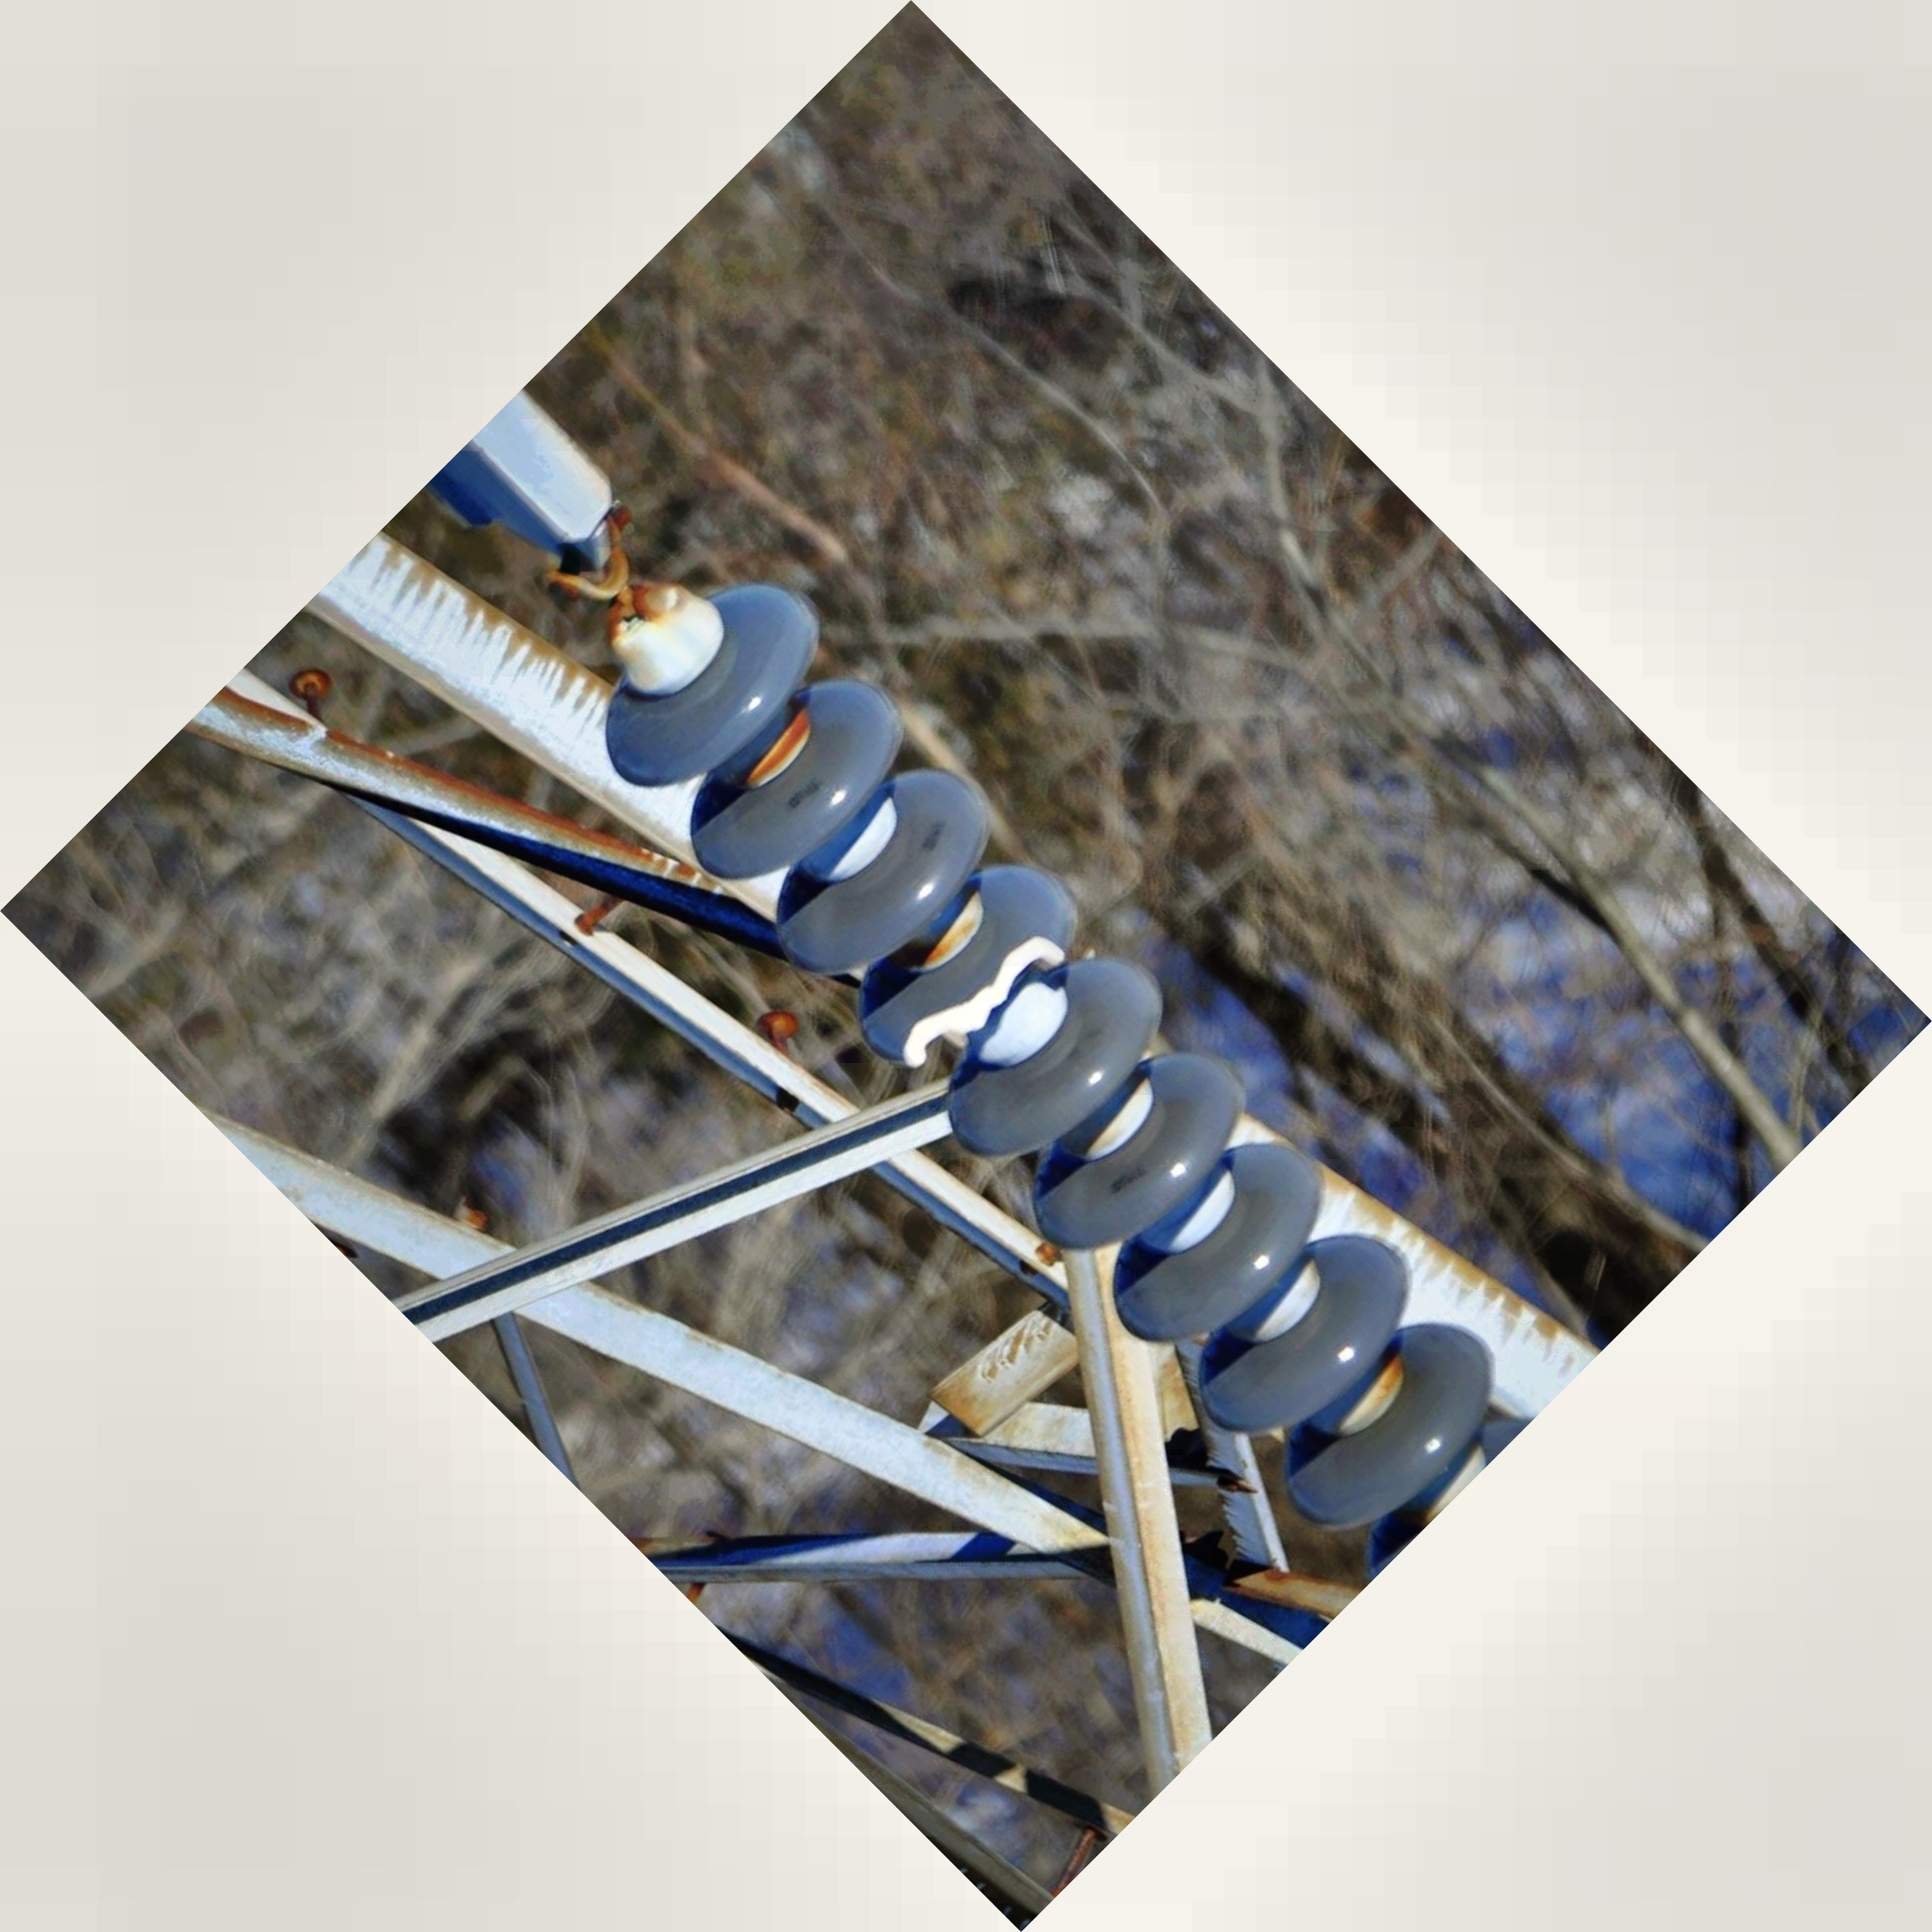insulator breakage: (863, 863, 1095, 1079)
